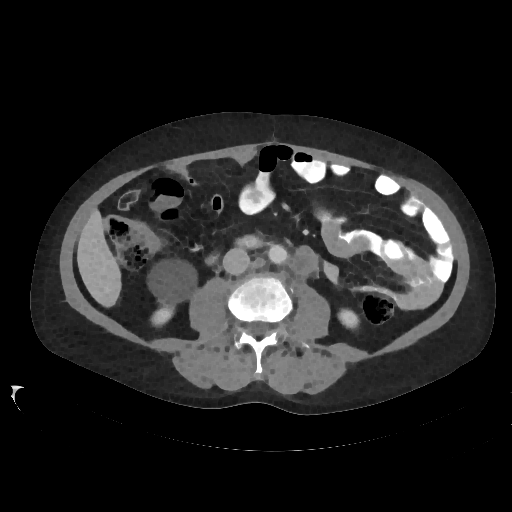Lesion: (141, 255, 201, 304)
